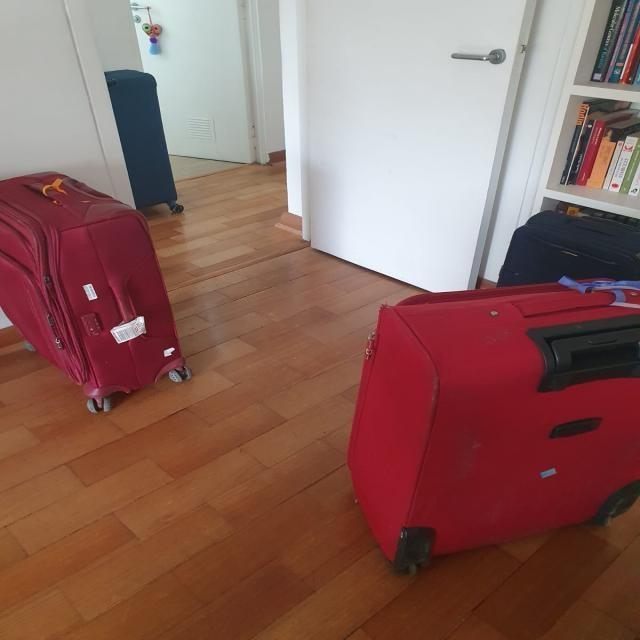Suitcase: (341, 272, 640, 579), (0, 170, 198, 423), (494, 202, 640, 292), (102, 68, 188, 215)
